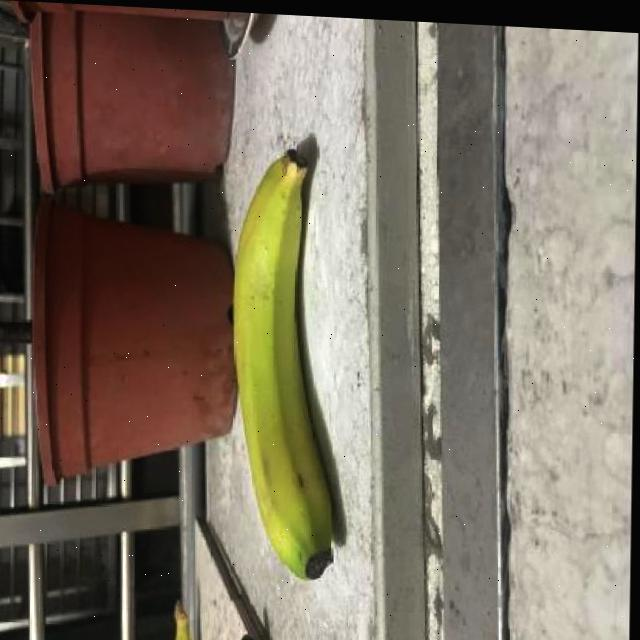banana: (226, 133, 355, 589)
